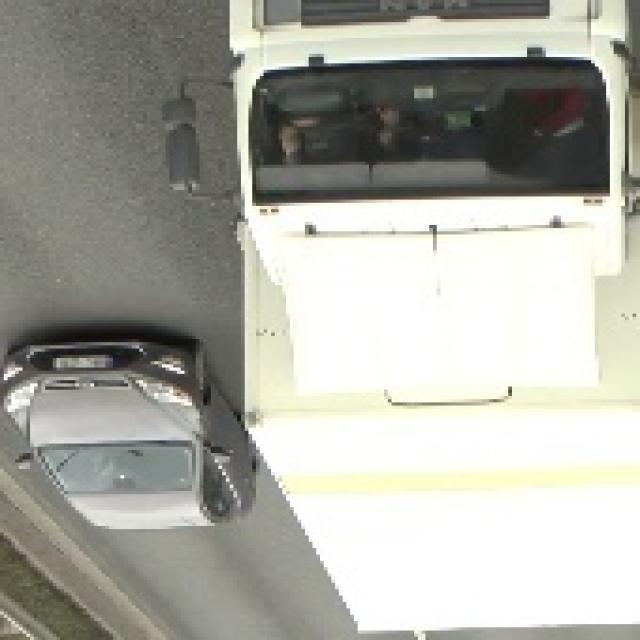truck: (173, 6, 636, 640)
